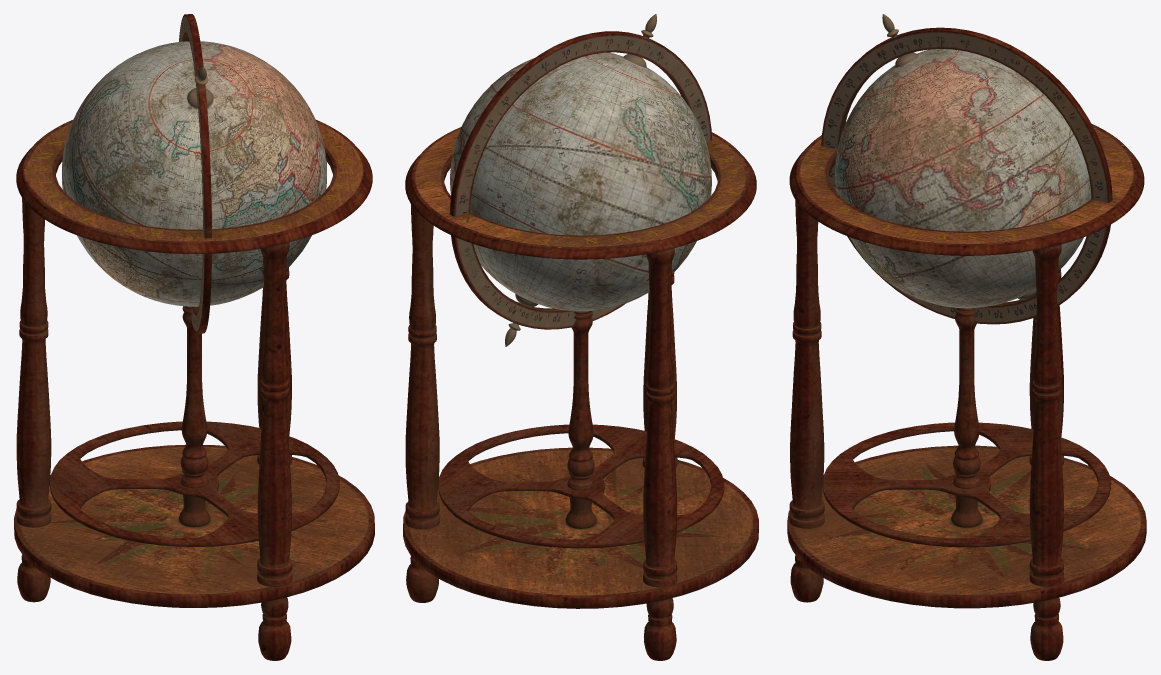
Rendered from floor-globe.glb.
3 views of the same model, side by side, from view 1: azimuth 30°, elevation 25°; view 2: azimuth 150°, elevation 25°; view 3: azimuth 270°, elevation 25° (orthographic).
Parts seen in each view (by area): view 1: defaultMaterial; view 2: defaultMaterial; view 3: defaultMaterial.
Part boxes in pixels (x1=…): defaultMaterial: x1=14, y1=14, x2=374, y2=660; defaultMaterial: x1=403, y1=14, x2=758, y2=660; defaultMaterial: x1=787, y1=14, x2=1146, y2=660.
Size of the model in its own units: 79.2 by 138 by 79.36.
Materials: 1 (1 with a texture image).
